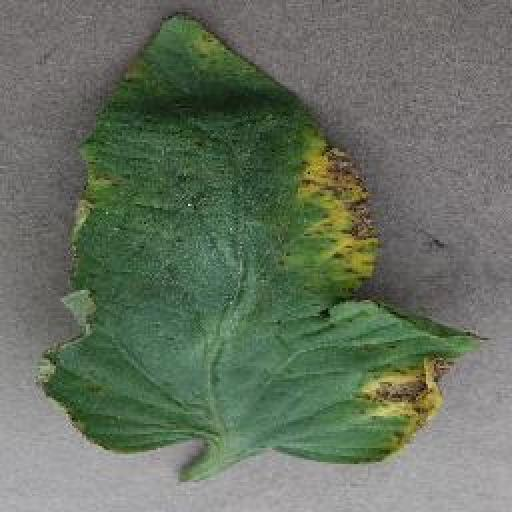Bacterial Spot: (35, 4, 492, 472)
